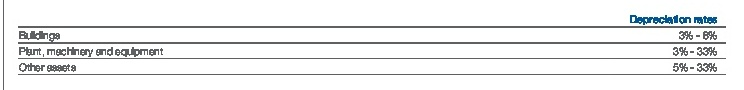table: (0, 0, 744, 90)
